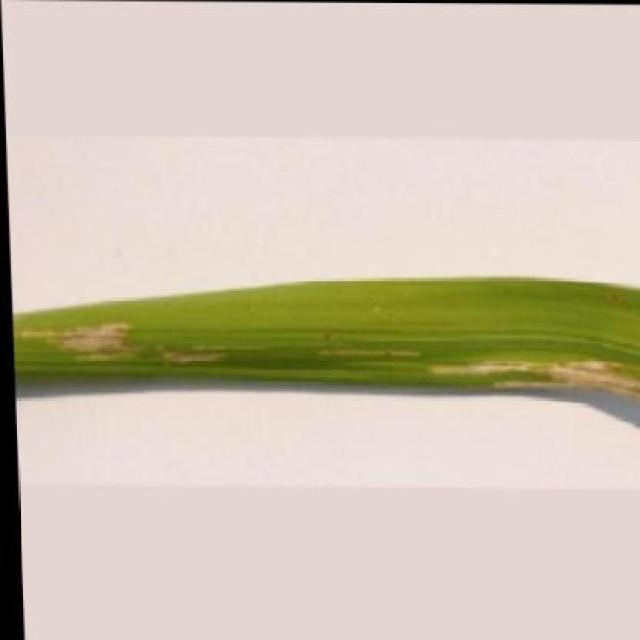Brown_Spot: (7, 267, 640, 410)
